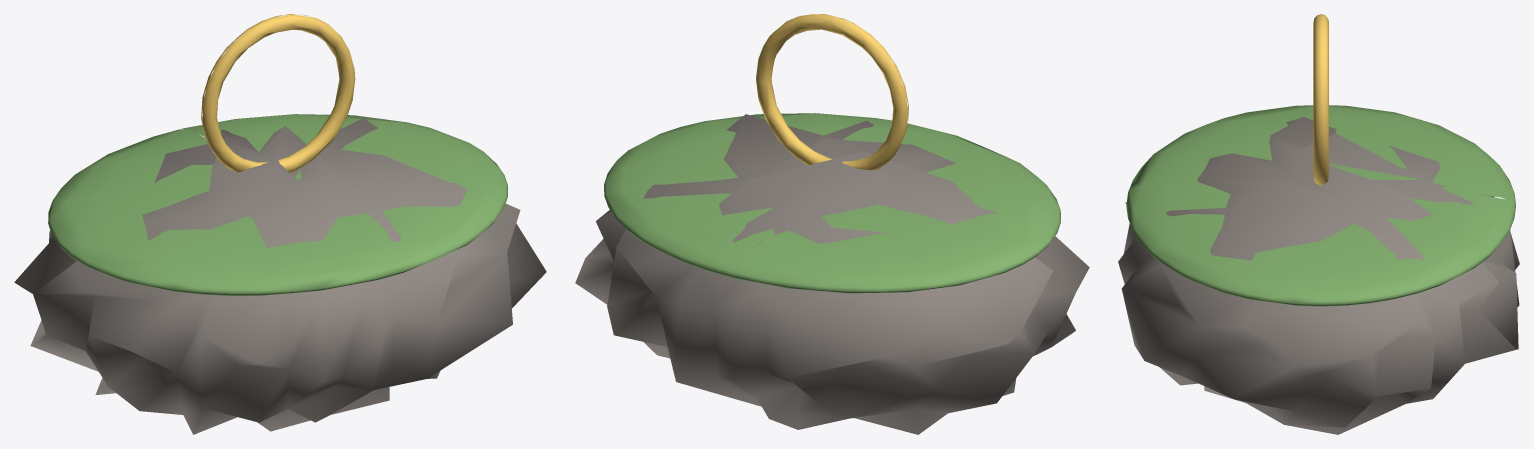
The model's file is sp_isl4.glb.
3 renders of one model, left to right at view 1: azimuth 30°, elevation 25°; view 2: azimuth 150°, elevation 25°; view 3: azimuth 270°, elevation 25°, orthographic. The views are drawn at different scales.
Size of the model in its own units: 12.84 by 10.55 by 10.31.
